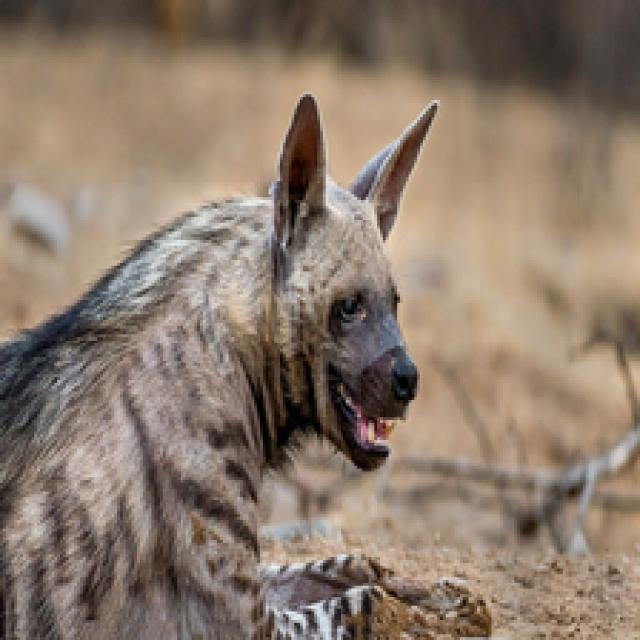hyena: (0, 102, 474, 637)
